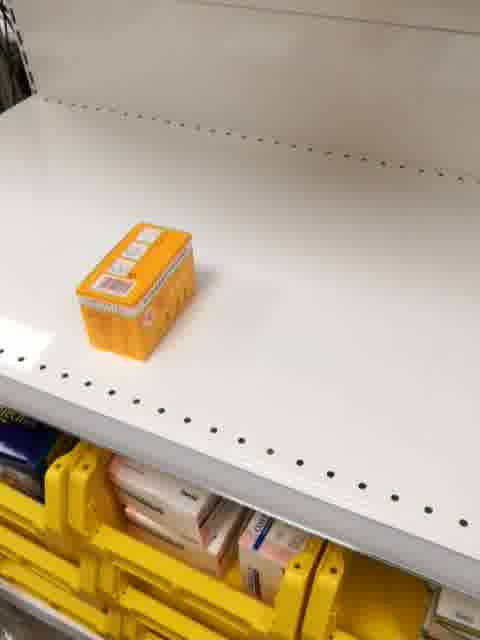jasminetea: (72, 217, 195, 362)
